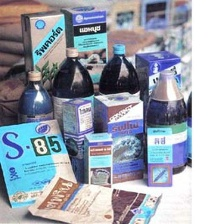carton: (91, 88, 147, 186), (18, 7, 71, 103), (131, 48, 183, 137), (58, 2, 108, 87), (60, 96, 95, 162), (144, 125, 175, 188), (82, 131, 114, 192)
insecticide: (21, 170, 171, 224), (0, 114, 78, 211), (144, 66, 189, 176), (51, 45, 99, 146), (97, 41, 144, 133), (15, 65, 51, 142)
